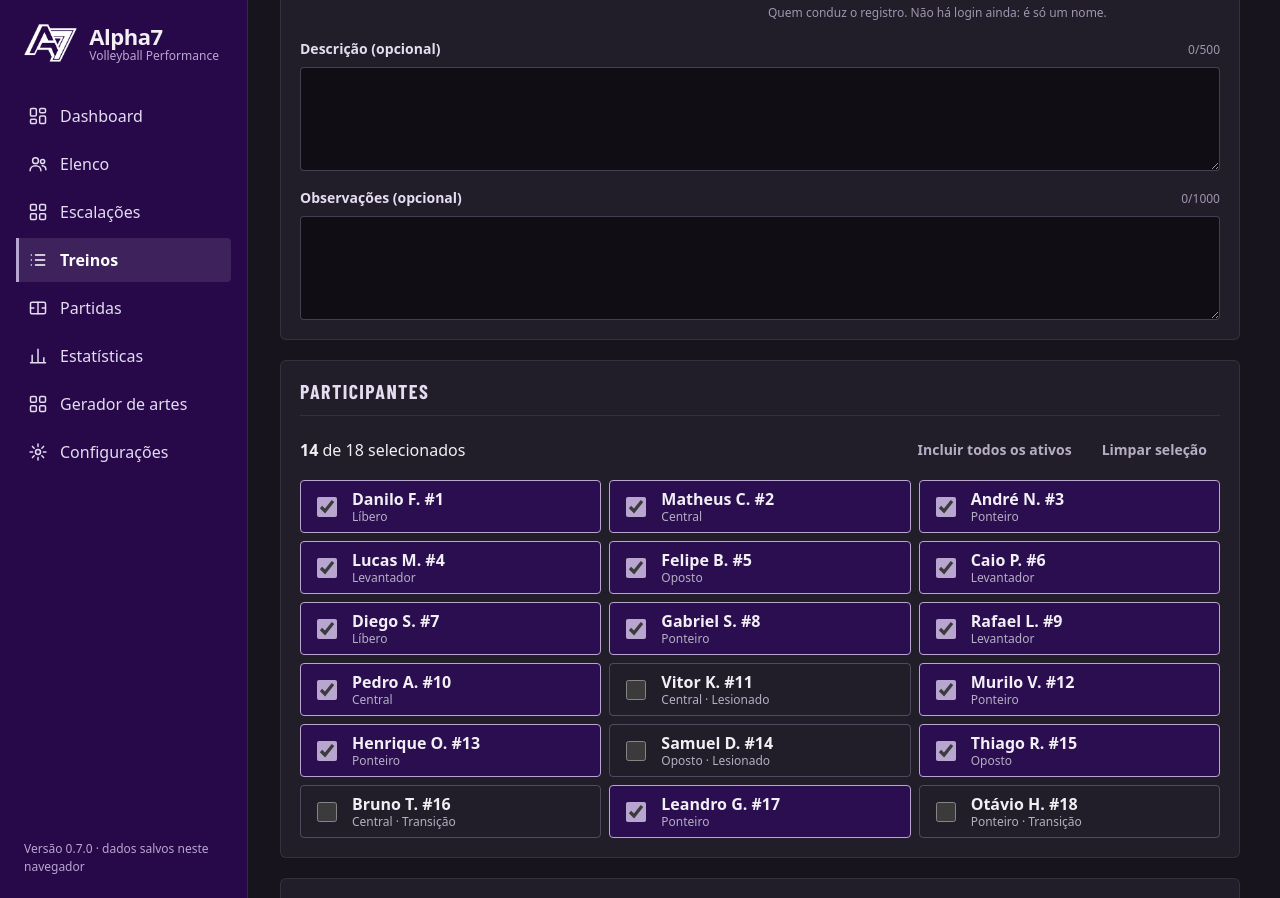
Test: Criar treino › seleção de participantes: limpar, incluir todos os ativos e marcar um a um
(page scrolled)
What coordinates should you click on to do the following:
click the button "Limpar seleção"
I would click on:
 (1154, 450)
Its box is x1=1089 y1=432 x2=1220 y2=468.
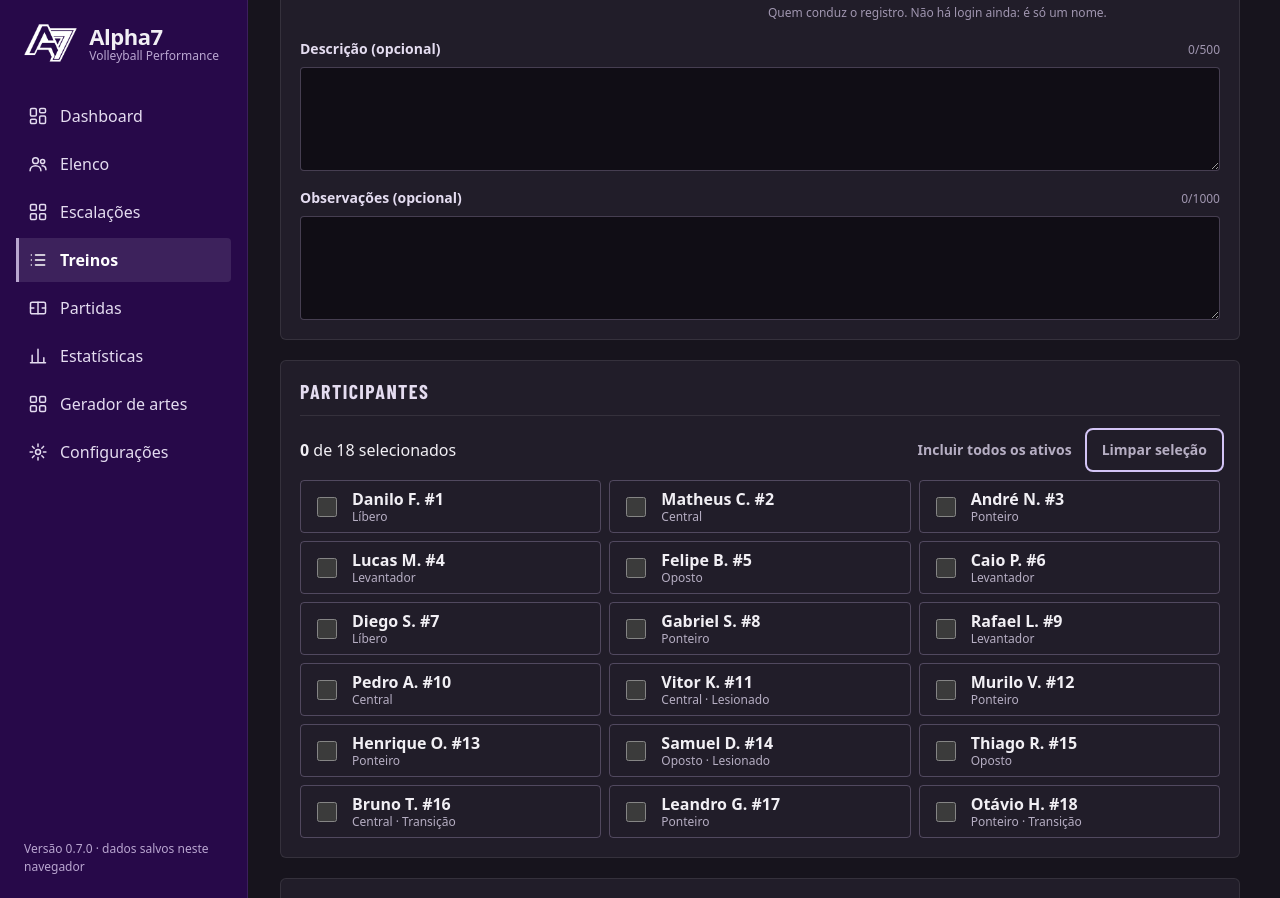
Expected: the text "0 de 18 selecionados" is shown, x1=300 y1=438 x2=456 y2=462
What coordinates should you click on to do the following:
click the checkbox labelled "Gabriel S. #8 Ponteiro"
I would click on:
 (636, 628)
Its box is x1=626 y1=618 x2=646 y2=638.
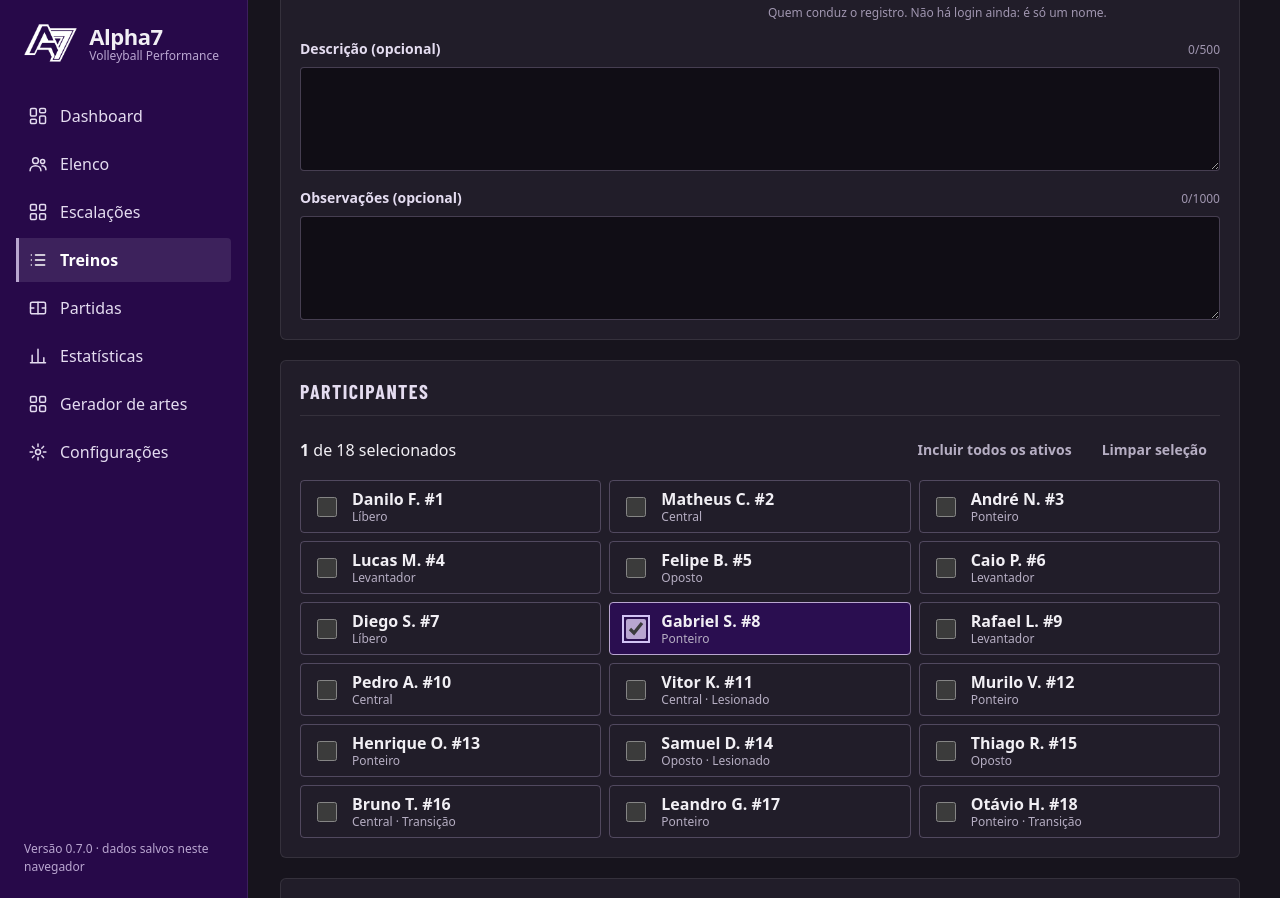
Expected: the text "1 de 18 selecionados" is shown, x1=300 y1=438 x2=456 y2=462
What coordinates should you click on to do the following:
click the button "Incluir todos os ativos"
I would click on:
 (995, 450)
Its box is x1=904 y1=432 x2=1085 y2=468.
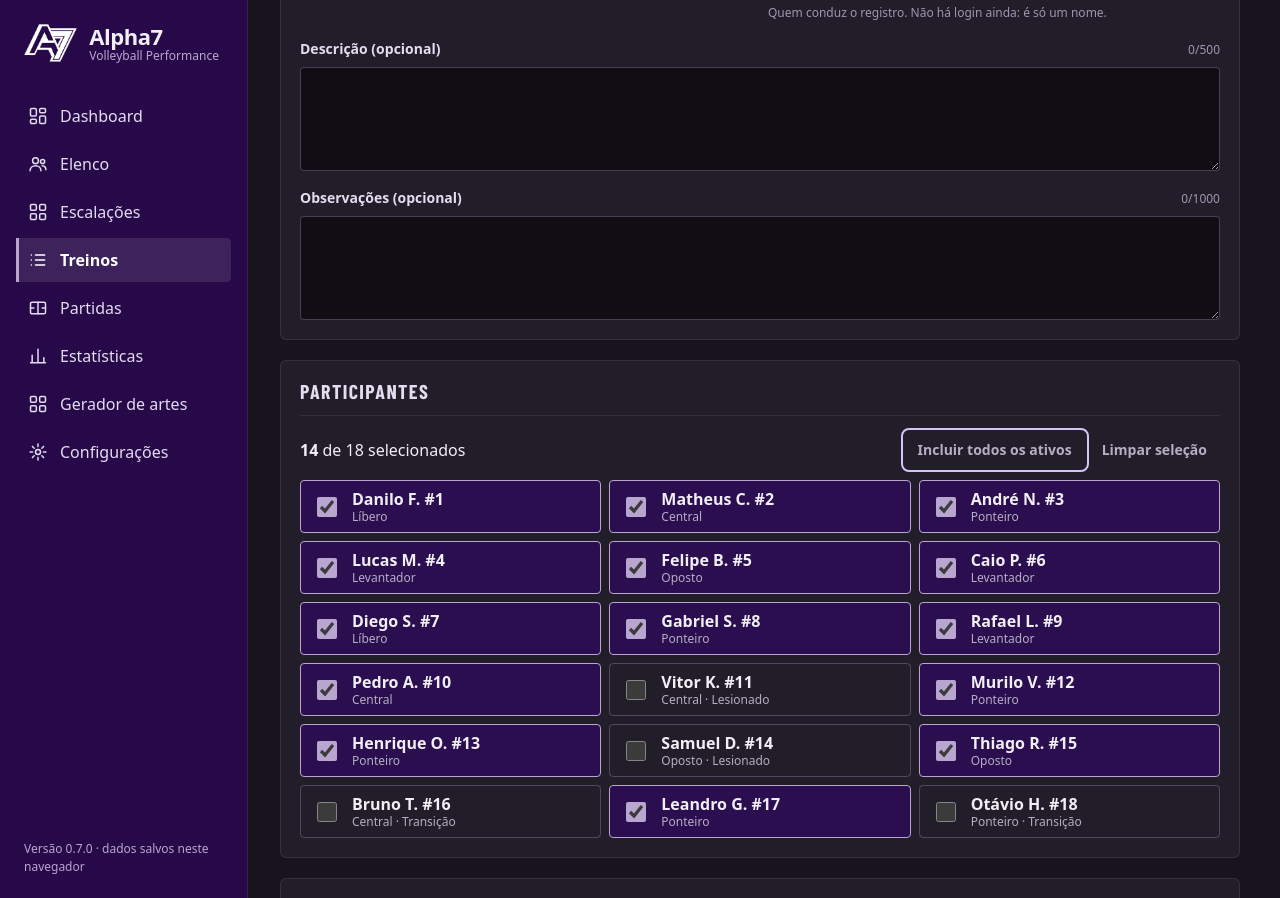
Expected: the text "14 de 18 selecionados" is shown, x1=300 y1=438 x2=465 y2=462
